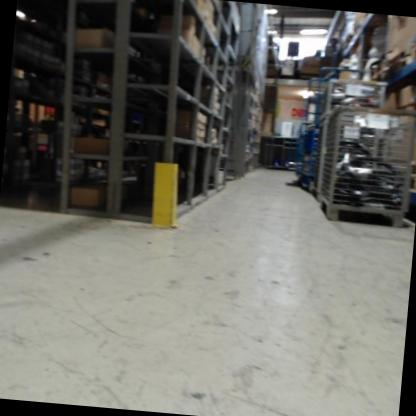pallet: (405, 174, 416, 194), (410, 29, 416, 63), (407, 159, 416, 176)
stillage: (313, 100, 416, 233), (326, 77, 391, 114), (308, 114, 327, 195)
